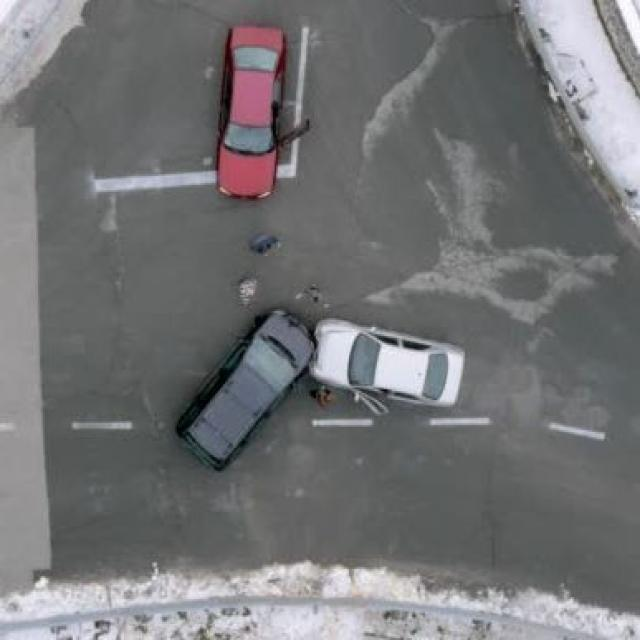traffic_incident: (182, 302, 465, 473)
